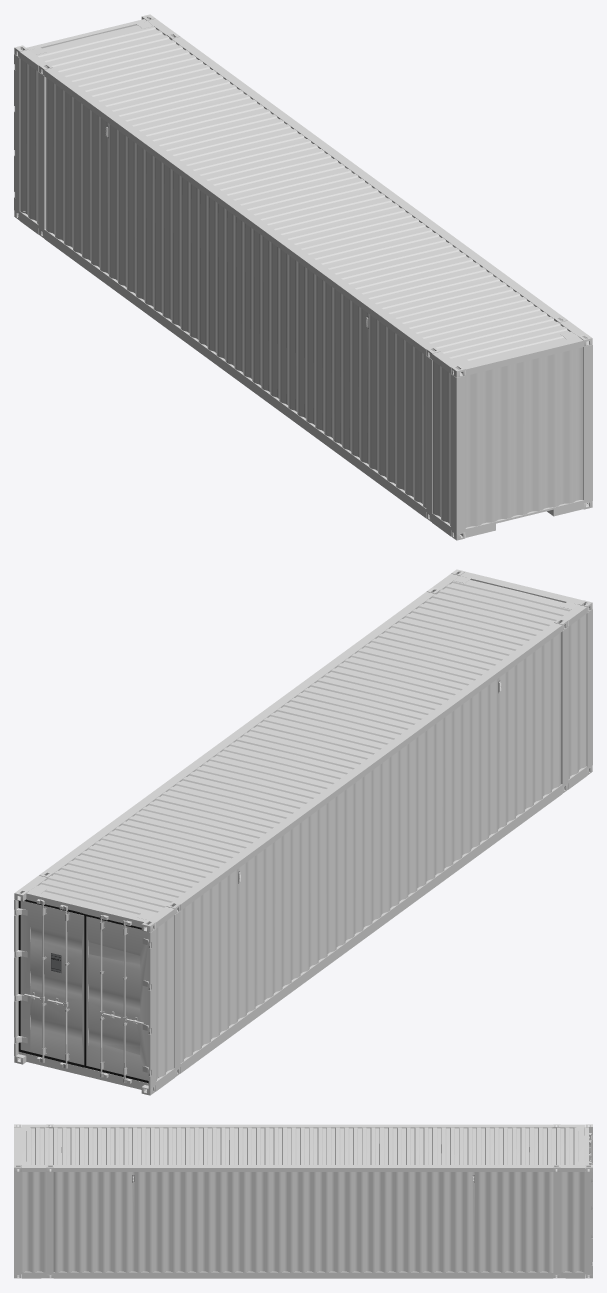
The model's file is Container_45ftHC_LOD1.fbx.
3 renders of one model, top to bottom at view 1: azimuth 30°, elevation 25°; view 2: azimuth 150°, elevation 25°; view 3: azimuth 270°, elevation 25°, orthographic. The views are drawn at different scales.
Visible parts, largest first — view 1: Container_45ftHC_LOD1; view 2: Container_45ftHC_LOD1; view 3: Container_45ftHC_LOD1.
Part boxes in pixels (left/top/right/bottom): Container_45ftHC_LOD1: left=14, top=14, right=592, bottom=540; Container_45ftHC_LOD1: left=14, top=569, right=592, bottom=1095; Container_45ftHC_LOD1: left=14, top=1124, right=592, bottom=1278.
Size of the model in its own units: 244 by 290 by 1371.
